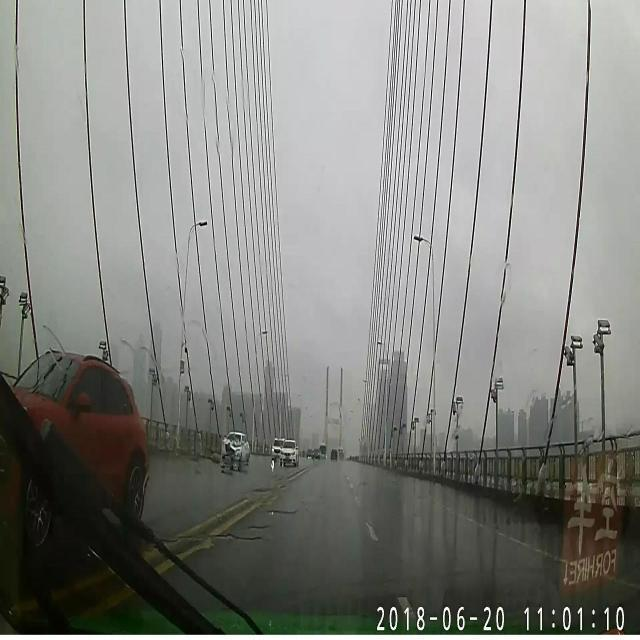car: (0, 348, 149, 544), (218, 430, 250, 464), (281, 438, 299, 466), (271, 438, 284, 462), (317, 441, 327, 459), (330, 448, 338, 461), (312, 447, 320, 460)
